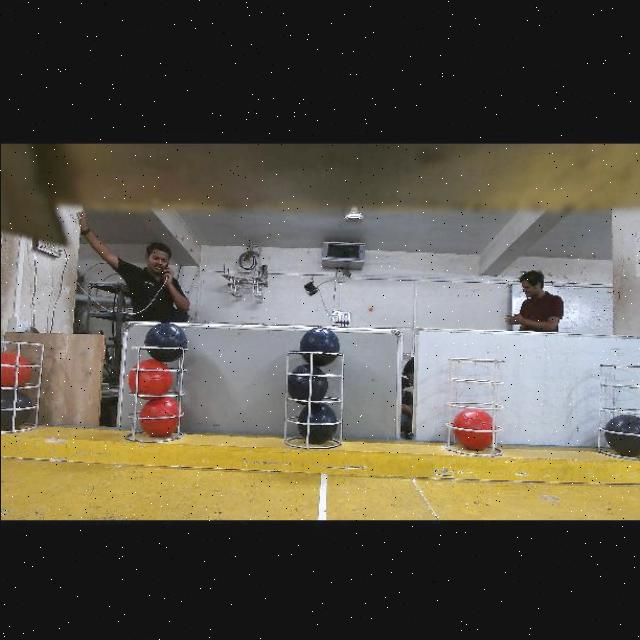P: (144, 321, 187, 361), (286, 362, 327, 403), (296, 401, 336, 441), (299, 325, 339, 365), (604, 413, 640, 455), (0, 388, 32, 427)
R: (450, 408, 493, 448), (139, 396, 179, 436), (128, 358, 170, 395), (0, 350, 28, 387)
S: (123, 343, 189, 441), (444, 354, 506, 458), (276, 346, 342, 442), (590, 354, 640, 454), (0, 337, 48, 435)
